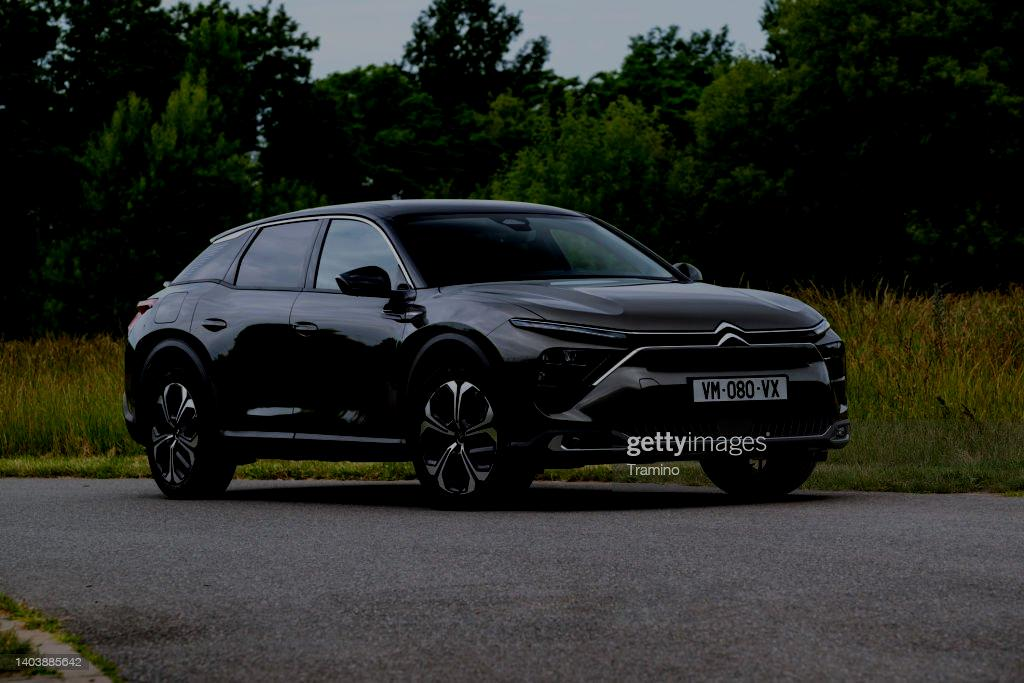Citroen: (709, 312, 753, 358)
